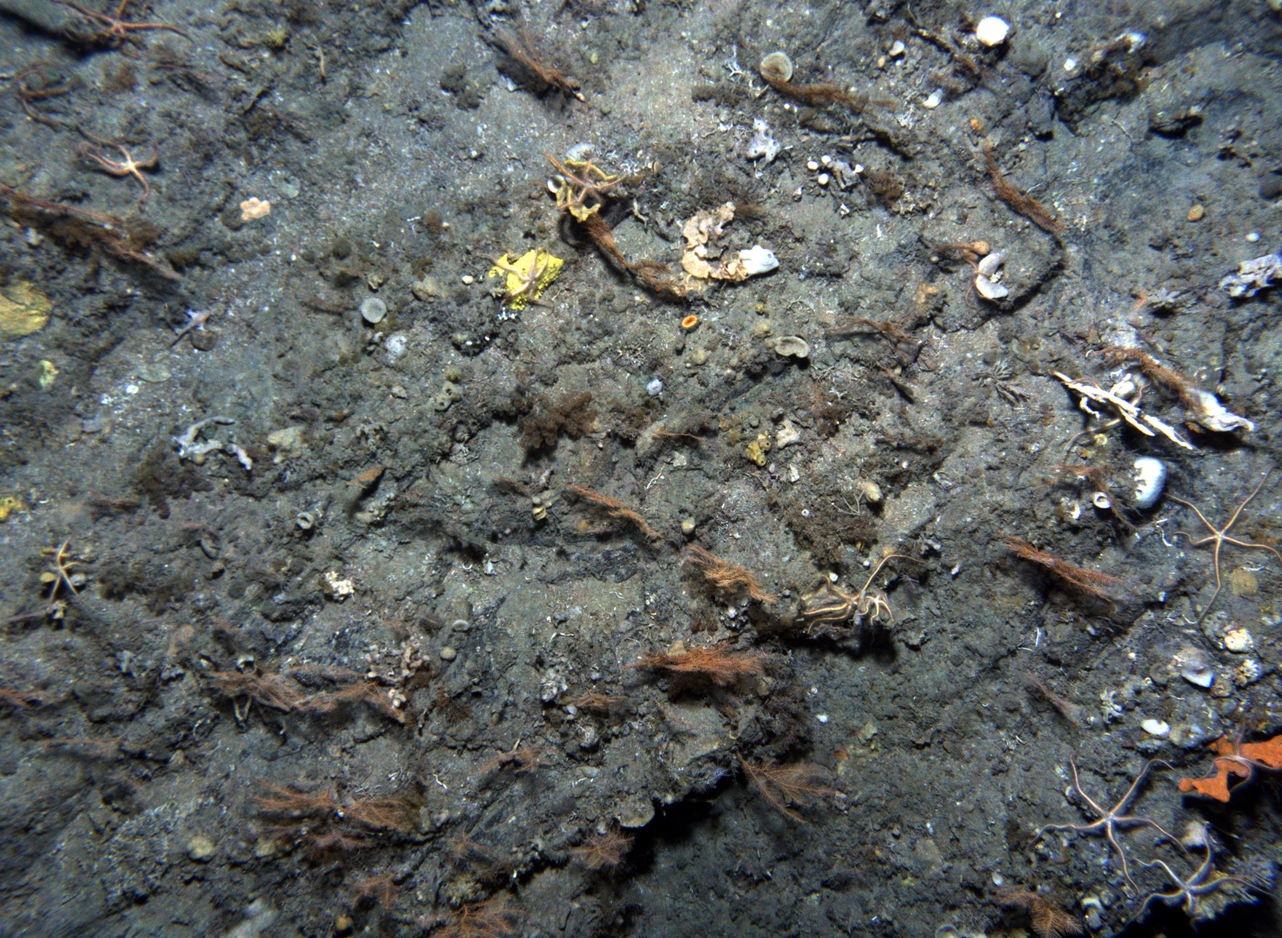Brachionichthyidae: (167, 307, 211, 349)
